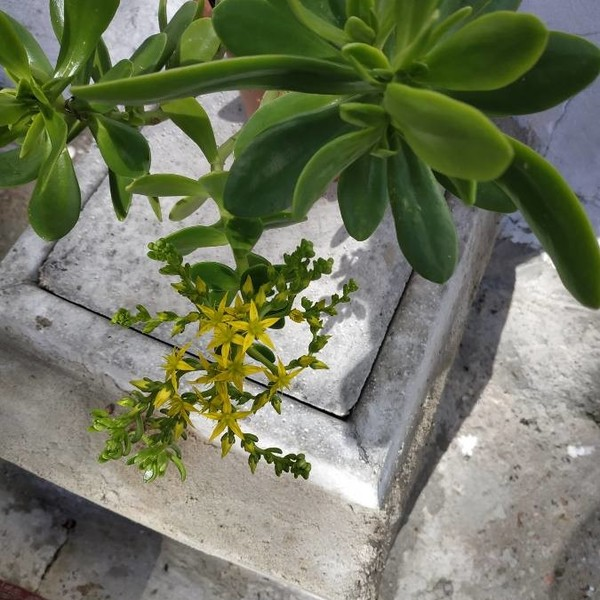obstacle: (18, 3, 598, 303), (99, 237, 346, 484)
